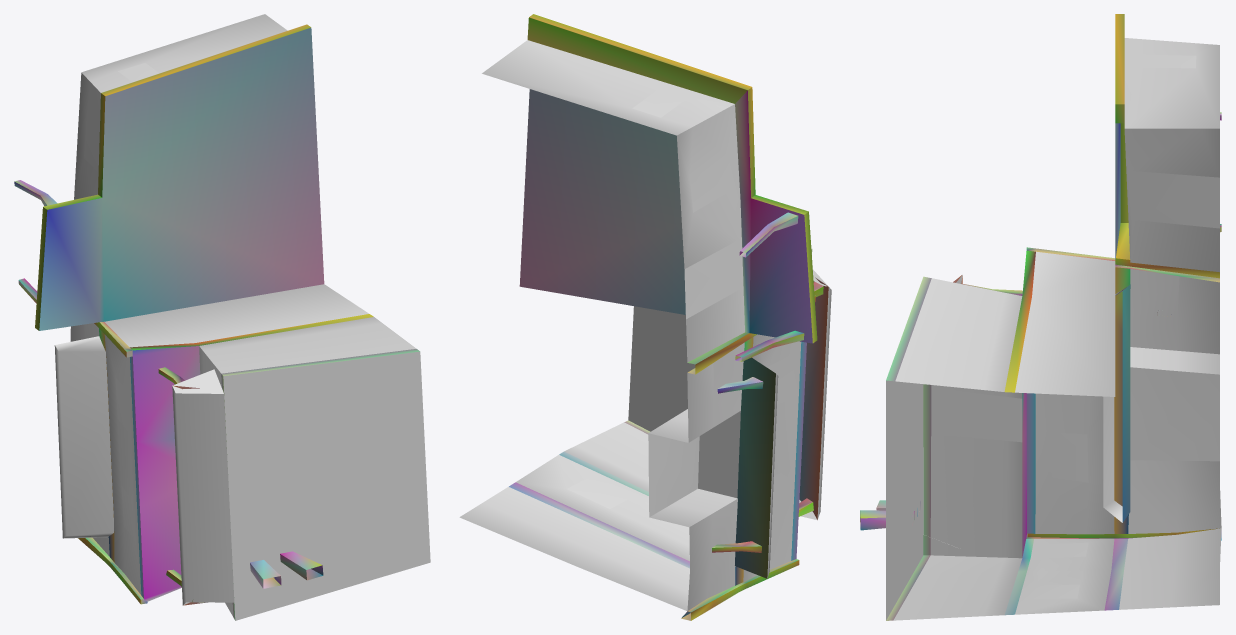
File: Village_ClusterB_lit.glb
3 views of the same model, side by side, from view 1: azimuth 30°, elevation 25°; view 2: azimuth 150°, elevation 25°; view 3: azimuth 270°, elevation 25° (orthographic). The views are drawn at different scales.
Parts seen in each view (by area): view 1: MeshNode_0, MeshNode_1, MeshNode_2; view 2: MeshNode_0, MeshNode_2, MeshNode_1; view 3: MeshNode_2, MeshNode_1, MeshNode_0.
Part boxes in pixels (x1,y1,x2,y2): MeshNode_0: (14, 24, 419, 620); MeshNode_1: (54, 63, 430, 620); MeshNode_2: (70, 14, 416, 616); MeshNode_0: (509, 14, 828, 620); MeshNode_2: (459, 40, 801, 611); MeshNode_1: (567, 87, 831, 578); MeshNode_2: (893, 38, 1221, 620); MeshNode_1: (886, 54, 1219, 620); MeshNode_0: (860, 14, 1221, 620).
Bounding box in the file's own units: 21.95 × 35.65 × 21.4.
